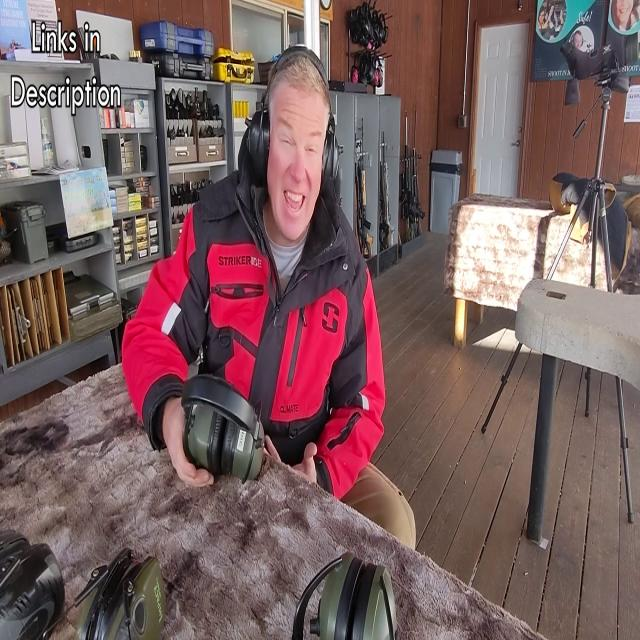earmuff: (244, 106, 272, 194), (318, 125, 344, 203)
